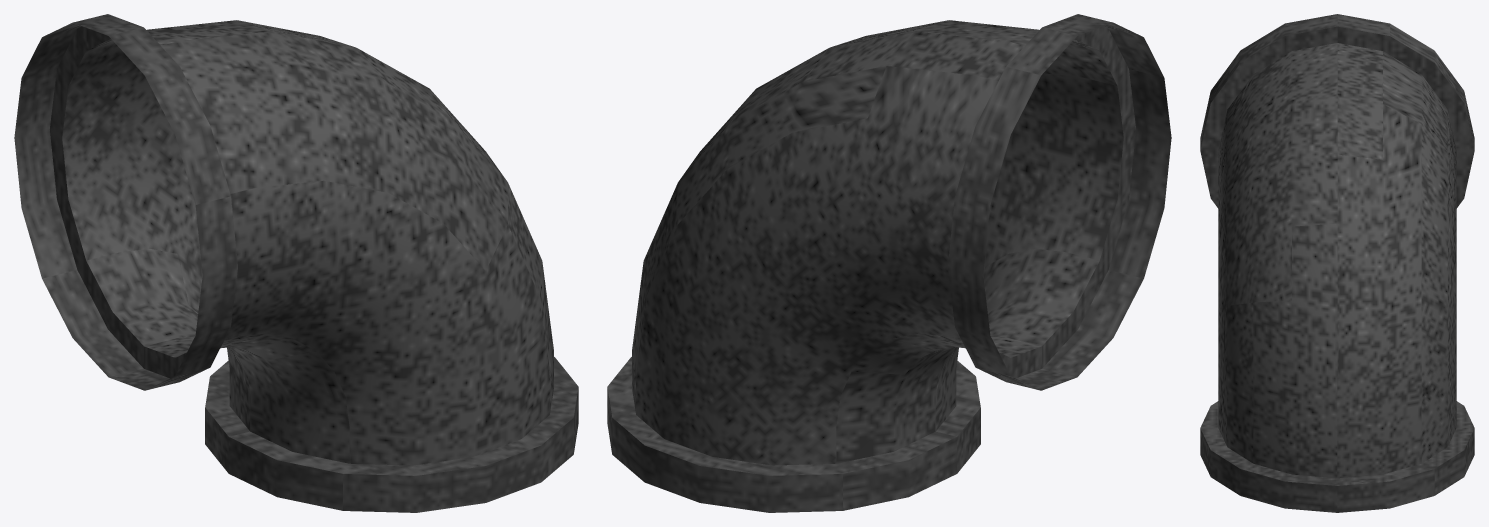
File: Pipe2.fbx
The picture shows the model from 3 angles, left to right: view 1: azimuth 30°, elevation 25°; view 2: azimuth 150°, elevation 25°; view 3: azimuth 270°, elevation 25°; orthographic projection. The views are drawn at different scales.
Parts seen in each view (by area): view 1: Cylinder.005; view 2: Cylinder.005; view 3: Cylinder.005.
Part boxes in pixels (x1,y1,x2,y2): Cylinder.005: (14, 14, 578, 512); Cylinder.005: (607, 14, 1171, 512); Cylinder.005: (1200, 14, 1474, 512).
Size of the model in its own units: 315 by 315 by 230.
